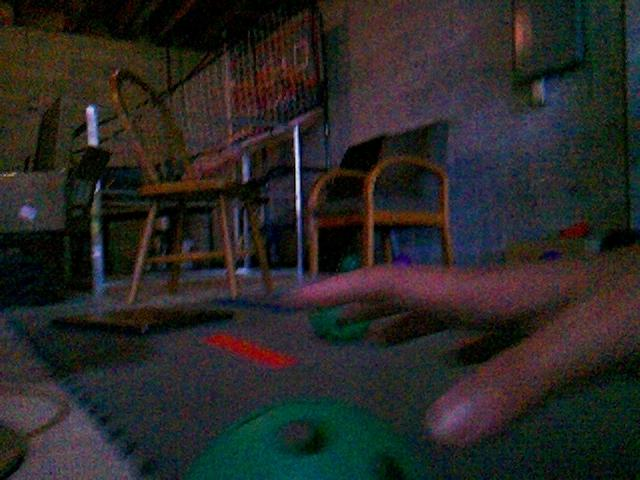Green: (177, 395, 424, 478), (309, 303, 374, 337), (341, 256, 361, 271)
Purple: (540, 248, 566, 261), (392, 253, 412, 266)
